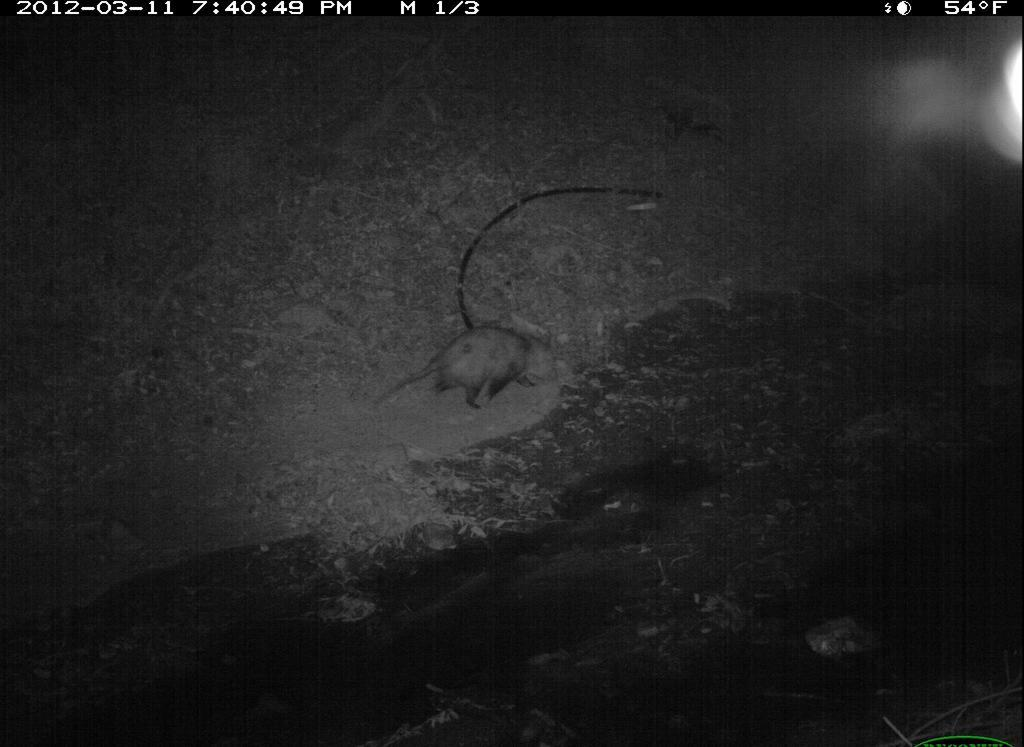opossum: (379, 312, 569, 429)
